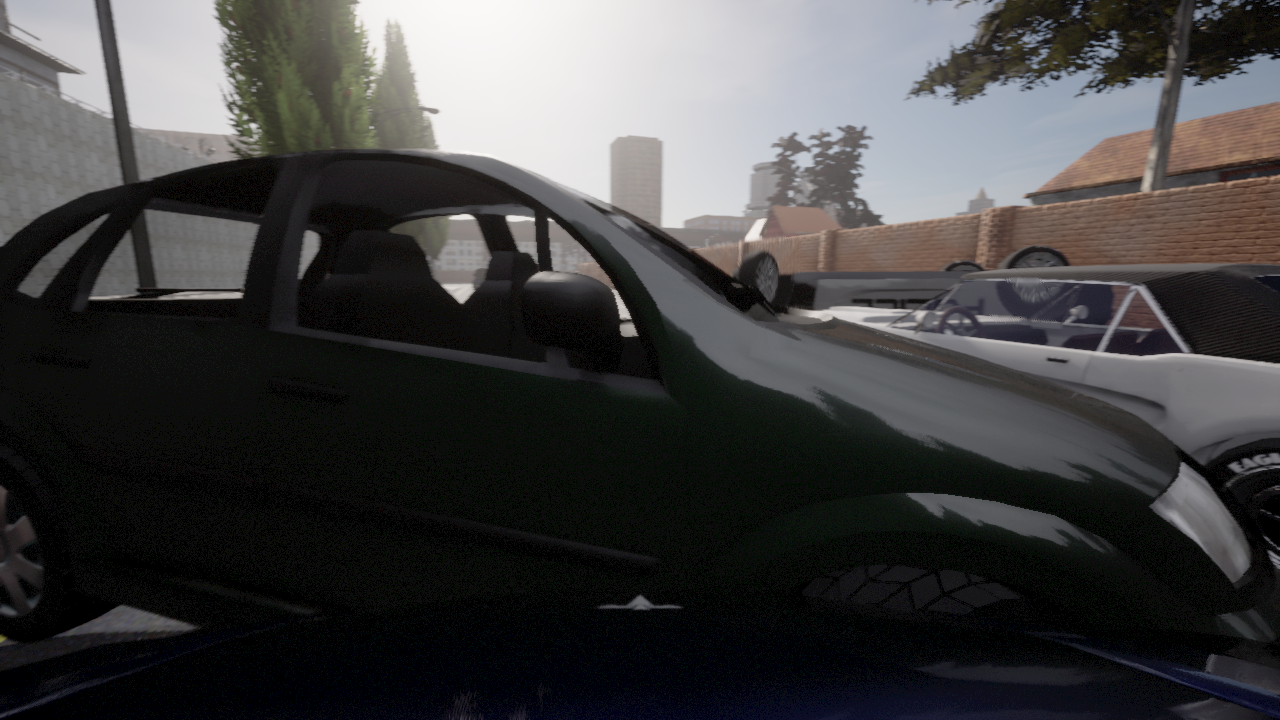cyclist: (0, 149, 1279, 644), (0, 588, 1279, 719), (813, 263, 1279, 568), (731, 246, 1069, 310)
